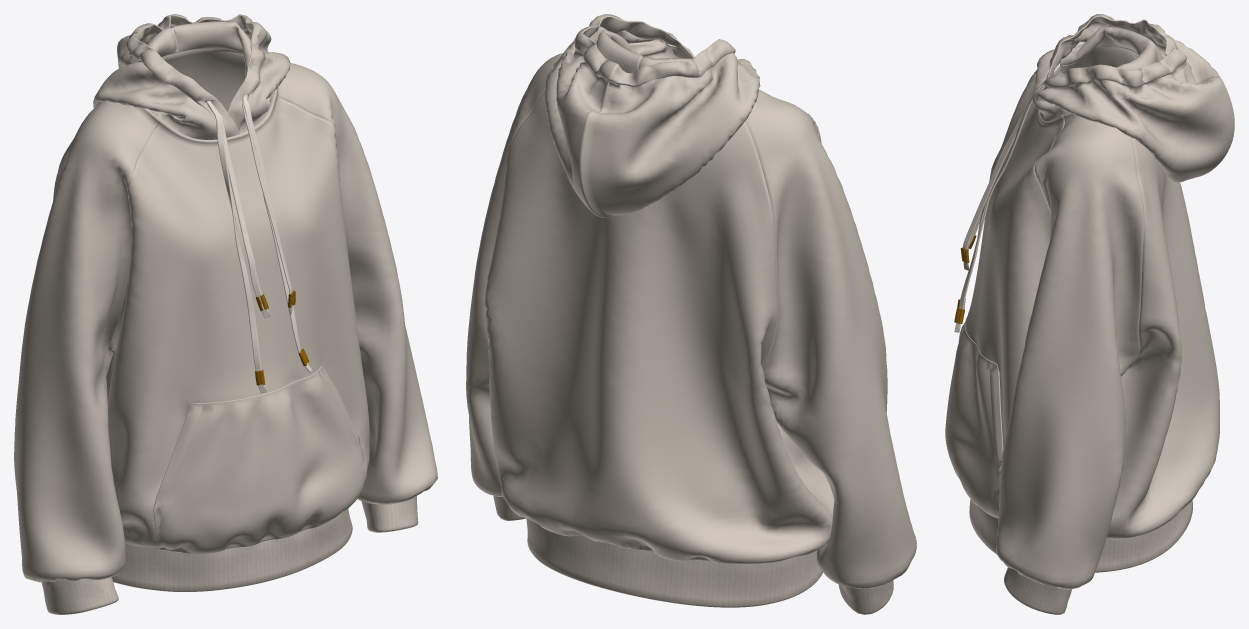
The model's file is Hoodie.glb.
The picture shows the model from 3 angles, left to right: view 1: azimuth 30°, elevation 25°; view 2: azimuth 150°, elevation 25°; view 3: azimuth 270°, elevation 25°; orthographic projection. The views are drawn at different scales.
Visible parts, largest first — view 1: front, sleeve_left, pocket, sleeve_right, elastic_down, cap_left, cap_right, back, elastic_left, drawstring_left_long, elastic_right, drawstring_left_short (+2 smaller); view 2: back, sleeve_left, cap_left, elastic_down, cap_right, sleeve_right, front, elastic_left, pocket_lining_inside_right_high; view 3: sleeve_right, back, front, cap_right, pocket, cap_left, elastic_down, elastic_right, pocket_lining_inside_left_high, sleeve_left, drawstring_right_long, drawstring_right_short.
Boxes of the visible parts, left/top/right/bottom form: front: left=106, top=91, right=369, bottom=549; sleeve_left: left=14, top=101, right=160, bottom=582; pocket: left=153, top=365, right=366, bottom=554; sleeve_right: left=275, top=63, right=437, bottom=504; elastic_down: left=111, top=509, right=352, bottom=591; cap_left: left=93, top=15, right=239, bottom=139; cap_right: left=169, top=14, right=290, bottom=135; back: left=53, top=48, right=245, bottom=375; elastic_left: left=41, top=577, right=118, bottom=614; drawstring_left_long: left=205, top=101, right=266, bottom=393; elastic_right: left=361, top=496, right=418, bottom=532; drawstring_left_short: left=207, top=103, right=270, bottom=318; back: left=485, top=90, right=832, bottom=564; sleeve_left: left=745, top=89, right=916, bottom=588; cap_left: left=579, top=39, right=760, bottom=217; elastic_down: left=526, top=518, right=823, bottom=607; cap_right: left=544, top=14, right=694, bottom=211; sleeve_right: left=466, top=53, right=562, bottom=496; front: left=776, top=125, right=834, bottom=515; elastic_left: left=838, top=580, right=893, bottom=614; pocket_lining_inside_right_high: left=582, top=16, right=680, bottom=60; sleeve_right: left=996, top=112, right=1144, bottom=589; back: left=1106, top=46, right=1219, bottom=539; front: left=965, top=65, right=1064, bottom=447; cap_right: left=1032, top=43, right=1234, bottom=182; pocket: left=945, top=317, right=1003, bottom=518; cap_left: left=1035, top=14, right=1234, bottom=160; elastic_down: left=969, top=499, right=1192, bottom=572; elastic_right: left=1004, top=567, right=1071, bottom=614; pocket_lining_inside_left_high: left=1051, top=16, right=1171, bottom=67; sleeve_left: left=1034, top=46, right=1132, bottom=73; drawstring_right_long: left=954, top=84, right=1045, bottom=332; drawstring_right_short: left=963, top=87, right=1043, bottom=270.
Size of the model in its own units: 2.35 by 2.89 by 1.52.
Materials: 2 (2 with a texture image).
